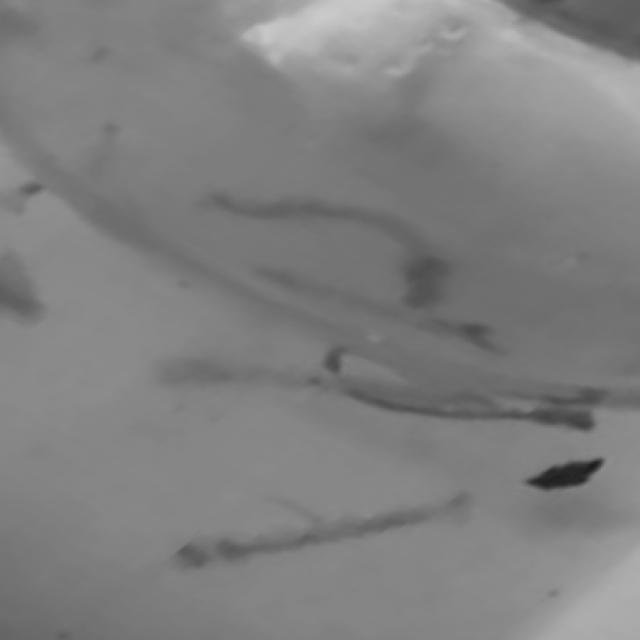larvas: (163, 475, 485, 584), (203, 185, 482, 303), (251, 256, 503, 367), (341, 377, 599, 447), (173, 361, 331, 400)
